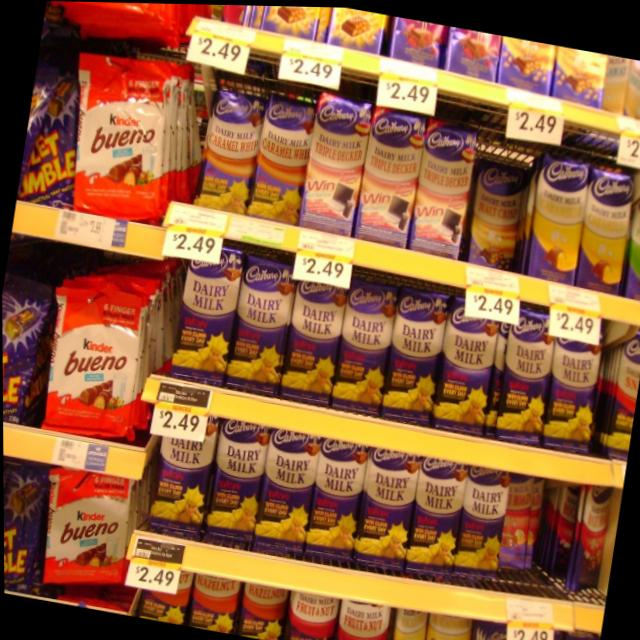q145: (218, 245, 300, 399), (379, 279, 458, 427), (198, 405, 270, 556), (251, 410, 324, 558), (487, 302, 562, 446), (274, 265, 349, 405), (330, 274, 403, 411), (171, 246, 240, 386), (353, 434, 426, 565), (433, 304, 503, 439), (402, 444, 473, 574), (303, 423, 372, 548), (144, 419, 215, 537), (541, 327, 606, 454), (452, 445, 514, 572)
